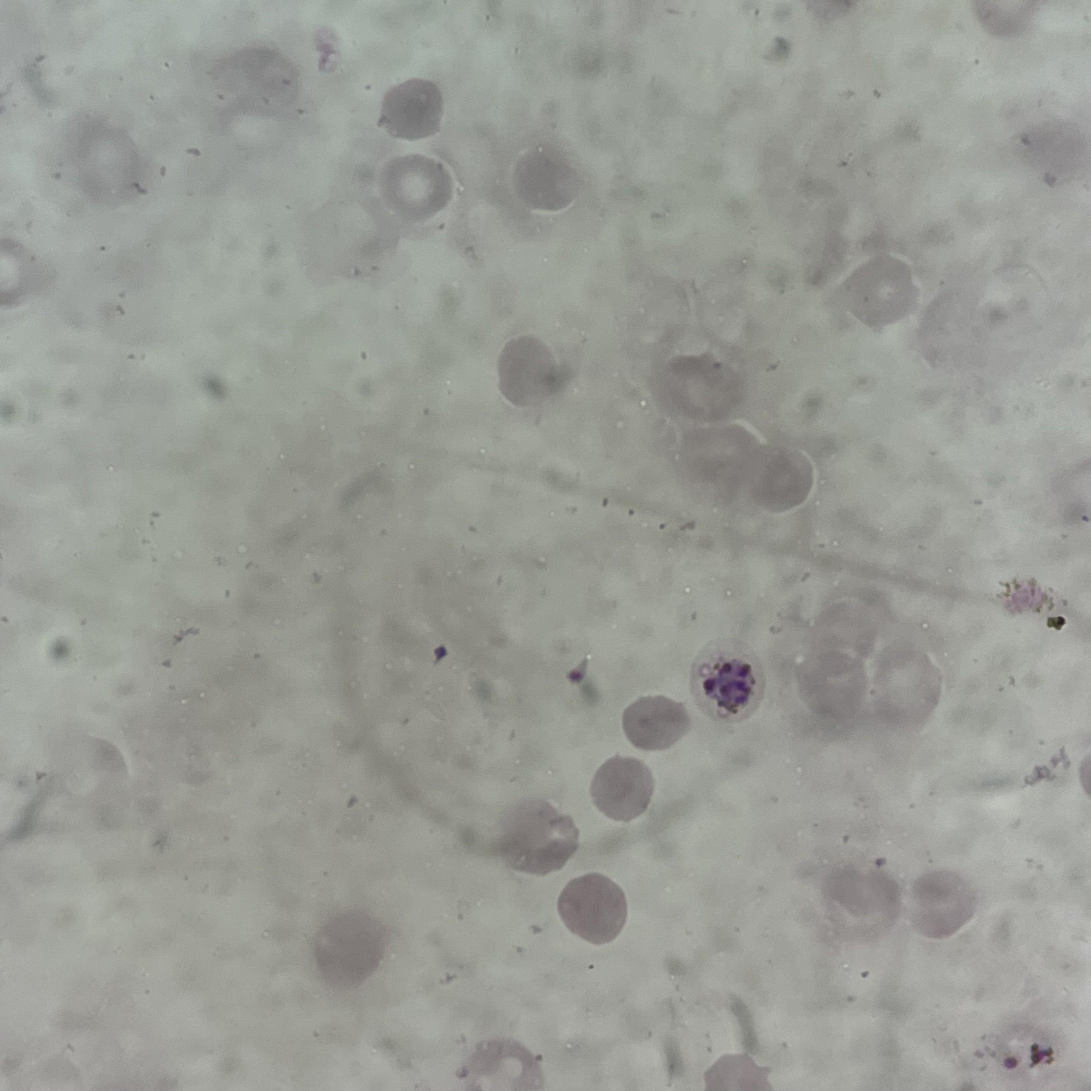Infected: (686, 636, 764, 722)
Uninfected: (795, 646, 869, 738), (872, 638, 944, 729), (497, 800, 579, 876), (840, 256, 919, 334), (303, 911, 384, 985), (740, 440, 815, 516), (906, 868, 980, 941), (667, 352, 745, 421), (554, 868, 627, 941), (497, 327, 559, 411), (381, 150, 453, 220), (509, 144, 582, 213), (588, 757, 659, 820), (379, 80, 441, 144), (624, 693, 686, 751)
